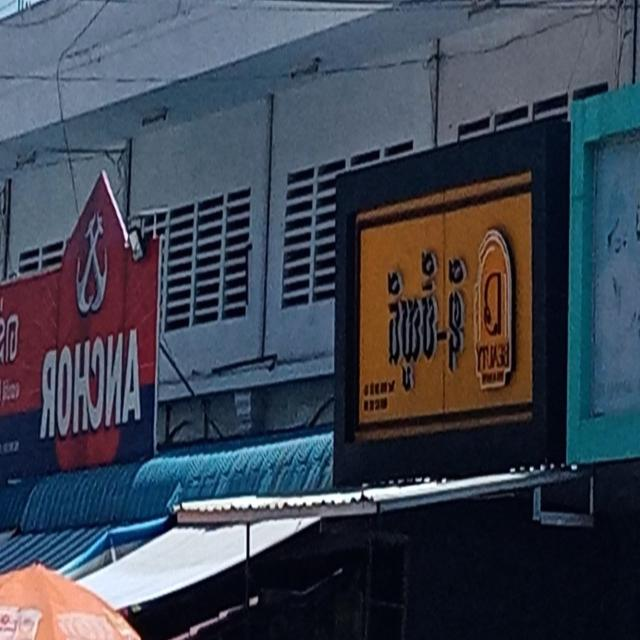Yolov11kh: (375, 227, 471, 402)
